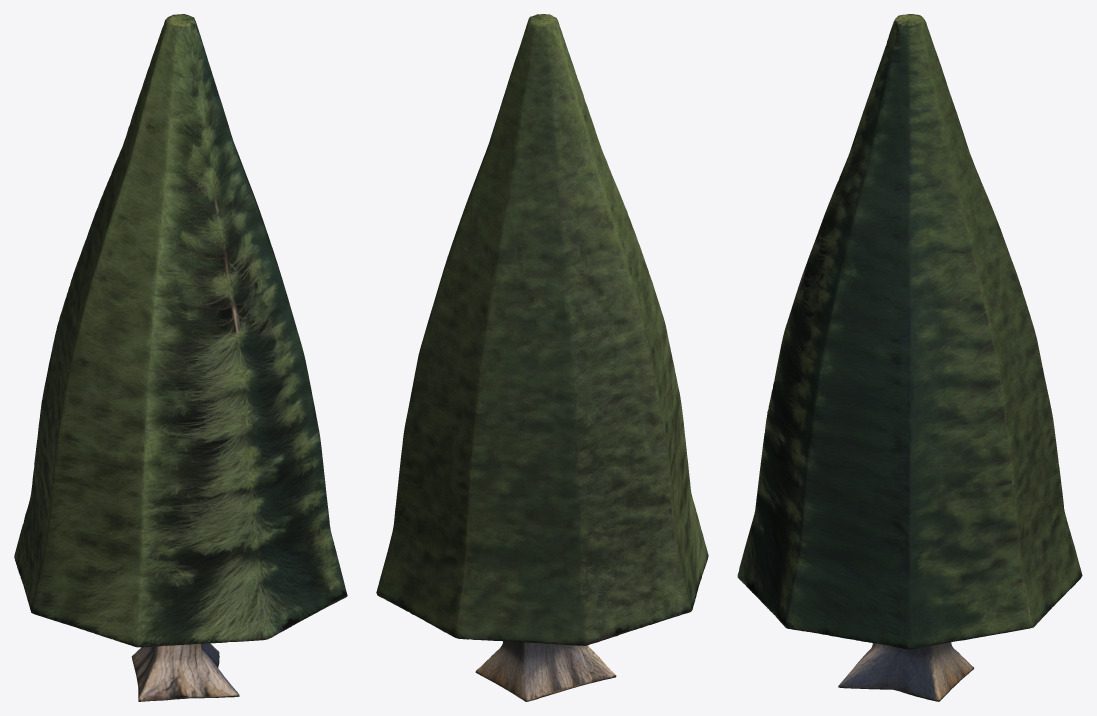
The model's file is AI_DenseSpruceTree.fbx.
3 renders of one model, left to right at view 1: azimuth 30°, elevation 25°; view 2: azimuth 150°, elevation 25°; view 3: azimuth 270°, elevation 25°, orthographic.
Parts seen in each view (by area): view 1: Mesh_0; view 2: Mesh_0; view 3: Mesh_0.
Part boxes in pixels (x1=…): Mesh_0: x1=14, y1=14, x2=347, y2=701; Mesh_0: x1=376, y1=14, x2=708, y2=701; Mesh_0: x1=737, y1=14, x2=1082, y2=701.
Bounding box in the file's own units: 95.17 × 200 × 95.26.
Materials: 1 (1 with a texture image).
